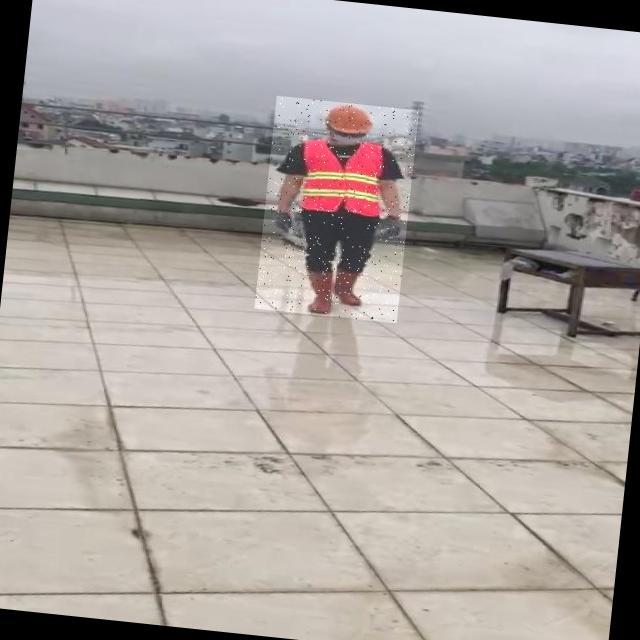Gloves: (374, 215, 406, 240), (274, 209, 294, 234)
Helmet: (323, 102, 374, 131)
Human: (254, 95, 419, 323)
Safety Boot: (302, 267, 336, 314), (329, 267, 365, 306)
Safety Vest: (296, 135, 389, 219)
